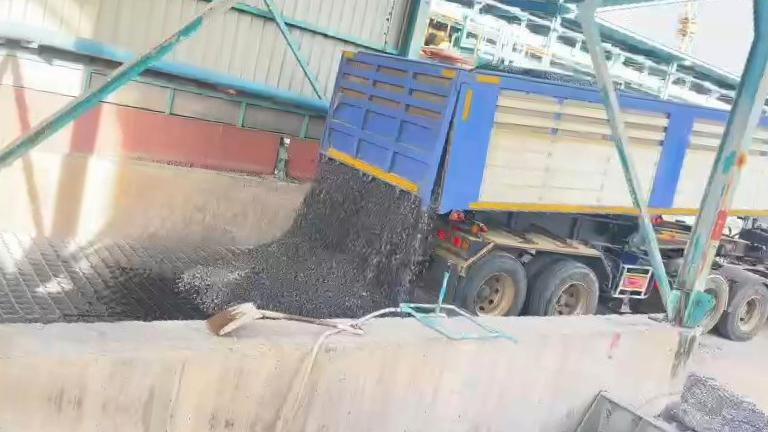gravel: (178, 160, 430, 317), (672, 374, 768, 432), (472, 64, 597, 87)
